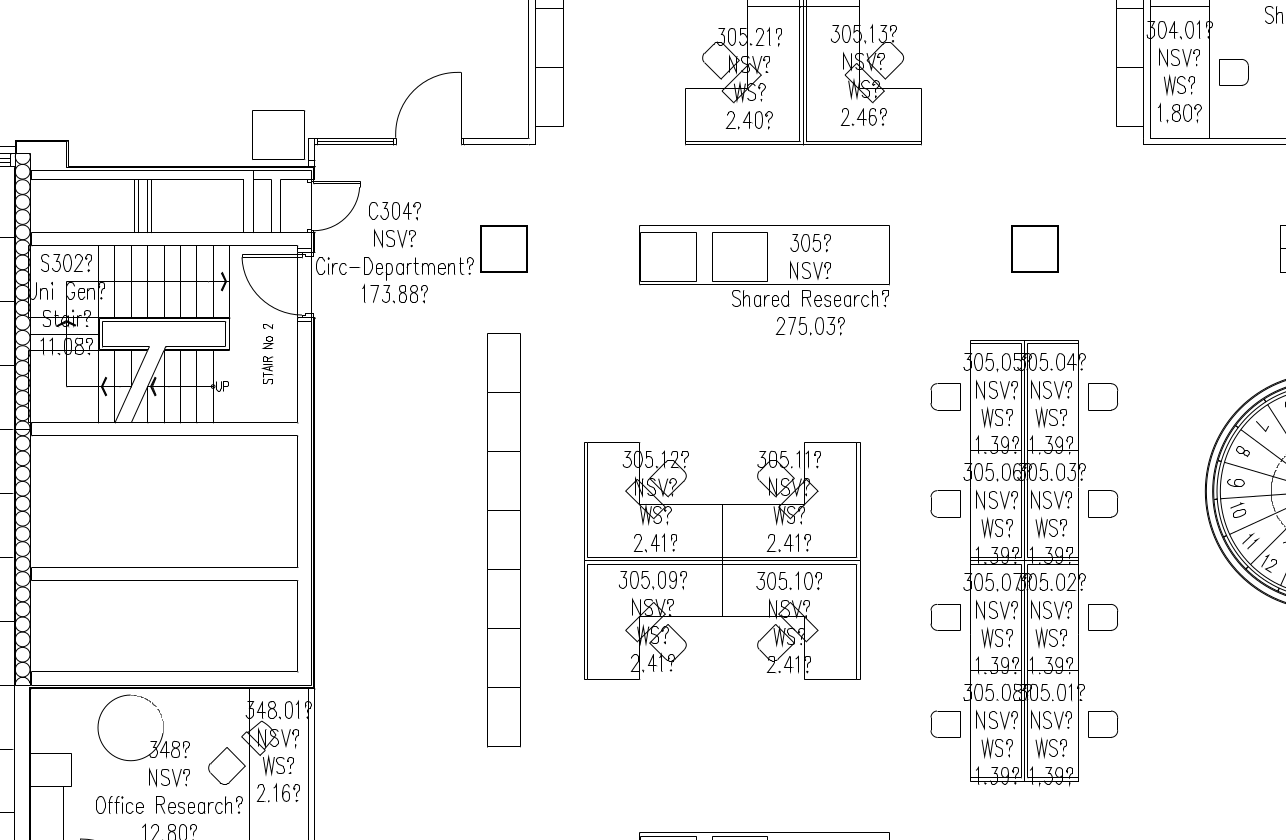door: (380, 61, 469, 157), (239, 249, 296, 325), (310, 177, 363, 240)
